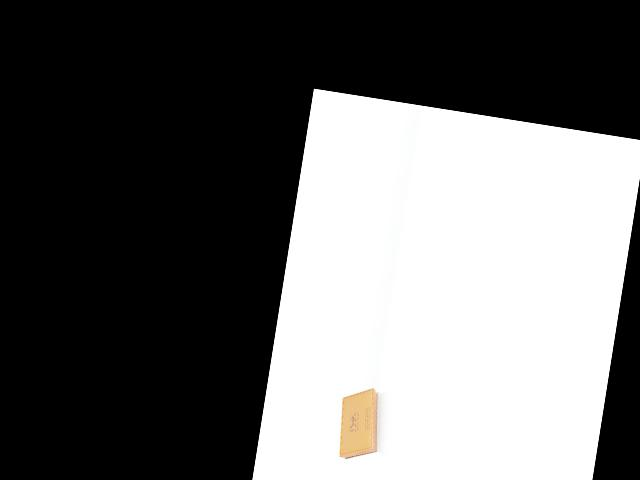chocolate: (330, 383, 392, 466)
